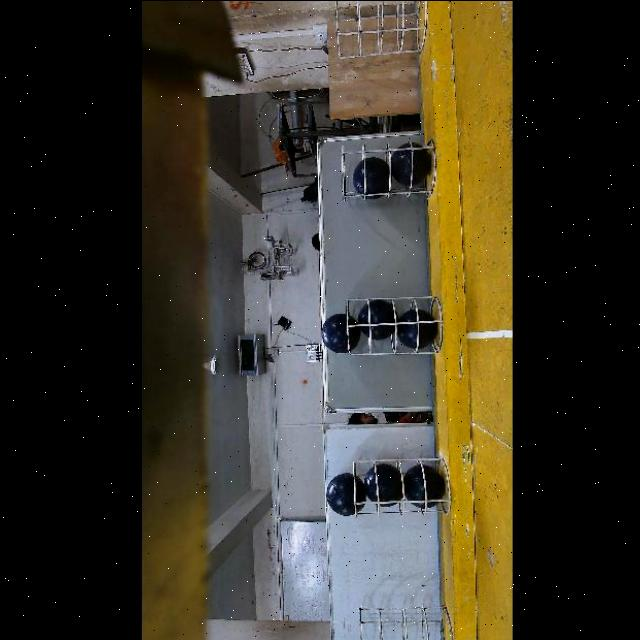P: (405, 464, 446, 507), (327, 474, 367, 515), (365, 464, 403, 505), (393, 143, 431, 184), (354, 157, 390, 199), (399, 309, 438, 347), (358, 299, 395, 339), (323, 313, 361, 351)
S: (335, 133, 441, 204), (353, 452, 451, 520), (342, 296, 444, 352), (331, 0, 429, 58), (358, 602, 448, 640)
